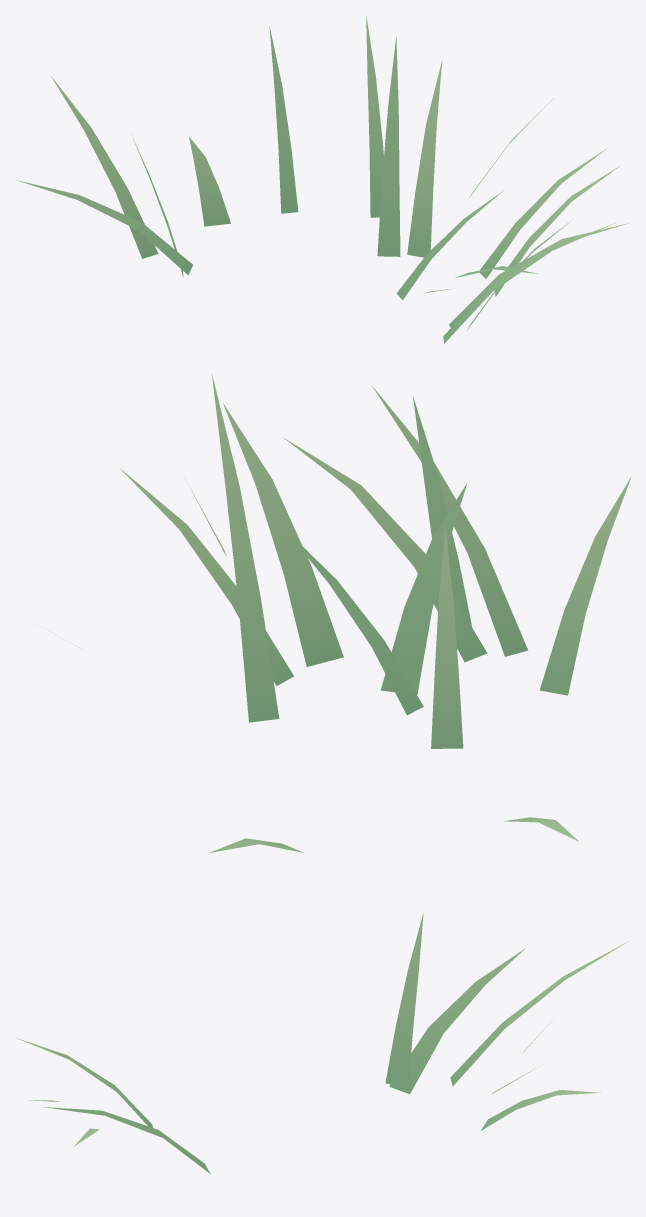
File: grass_glade_b.glb
The picture shows the model from 3 angles, top to bottom: view 1: azimuth 30°, elevation 25°; view 2: azimuth 150°, elevation 25°; view 3: azimuth 270°, elevation 25°; orthographic projection. The views are drawn at different scales.
Visible parts, largest first — view 1: soft; view 2: soft; view 3: soft.
Boxes of the visible parts, <box> form: soft: <box>16,16,629,343</box>; soft: <box>42,373,631,852</box>; soft: <box>17,913,628,1173</box>.
Size of the model in its own units: 0.4738 by 0.1788 by 0.5254.
